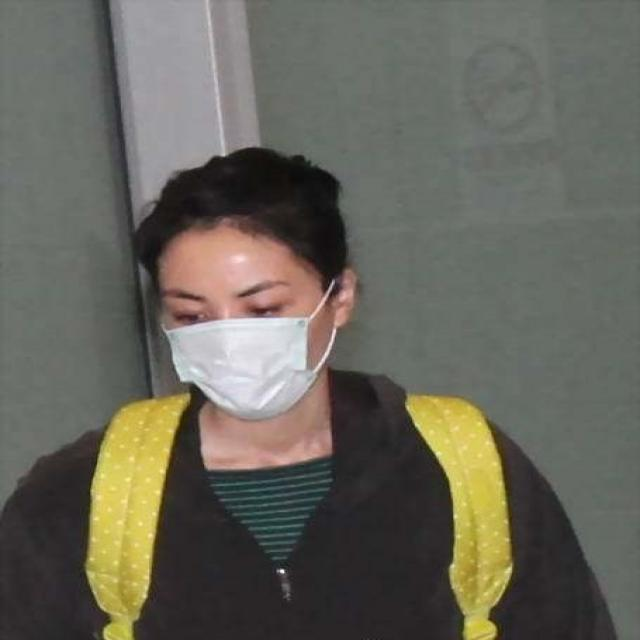mask: (156, 225, 325, 416)
